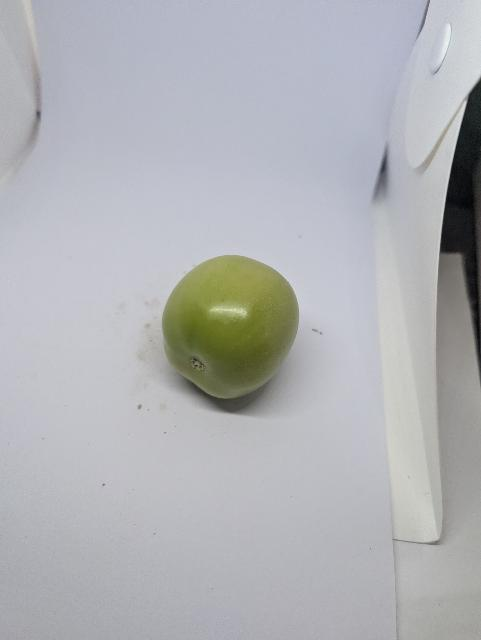green: (159, 252, 302, 402)
